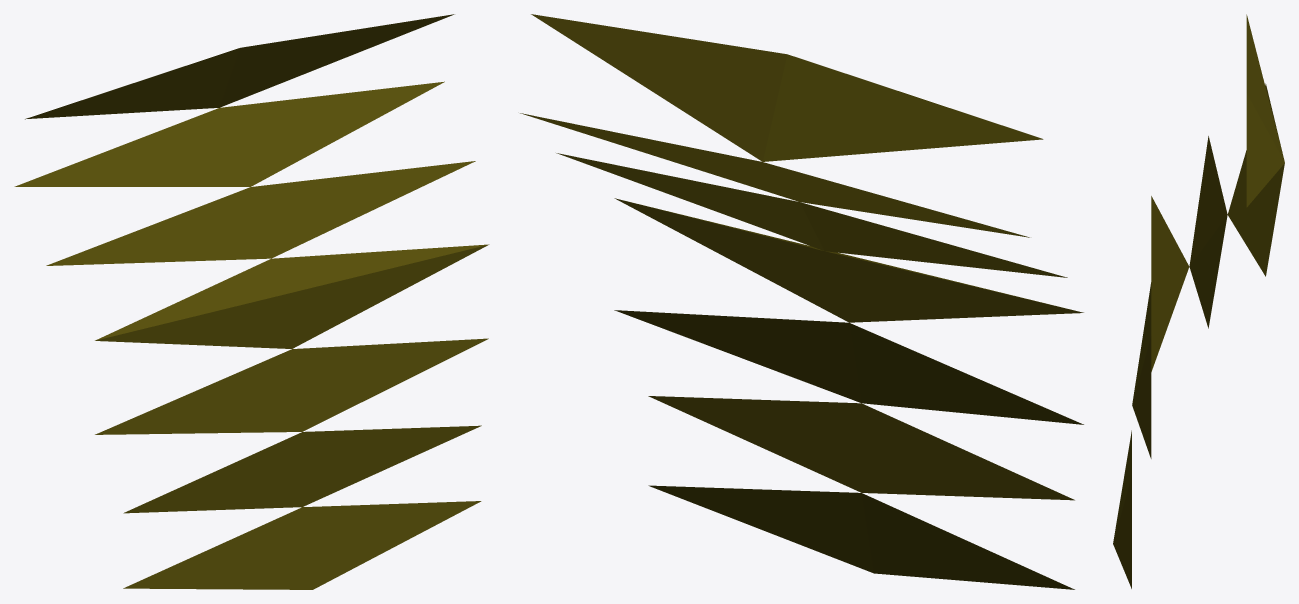
Rendered from npc_world_survival_expert_7.obj.
3 renders of one model, left to right at view 1: azimuth 30°, elevation 25°; view 2: azimuth 150°, elevation 25°; view 3: azimuth 270°, elevation 25°, orthographic. The views are drawn at different scales.
Bounding box in the file's own units: 0.1875 × 0.2031 × 0.0703.
